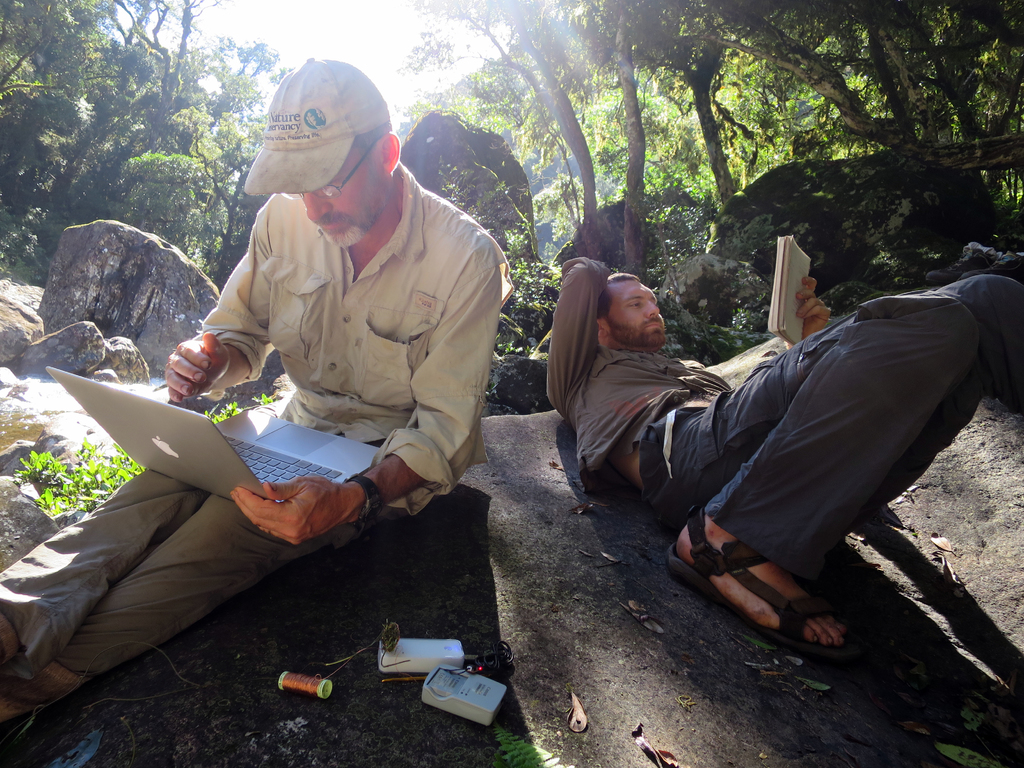Footwear: (668, 498, 856, 667)
